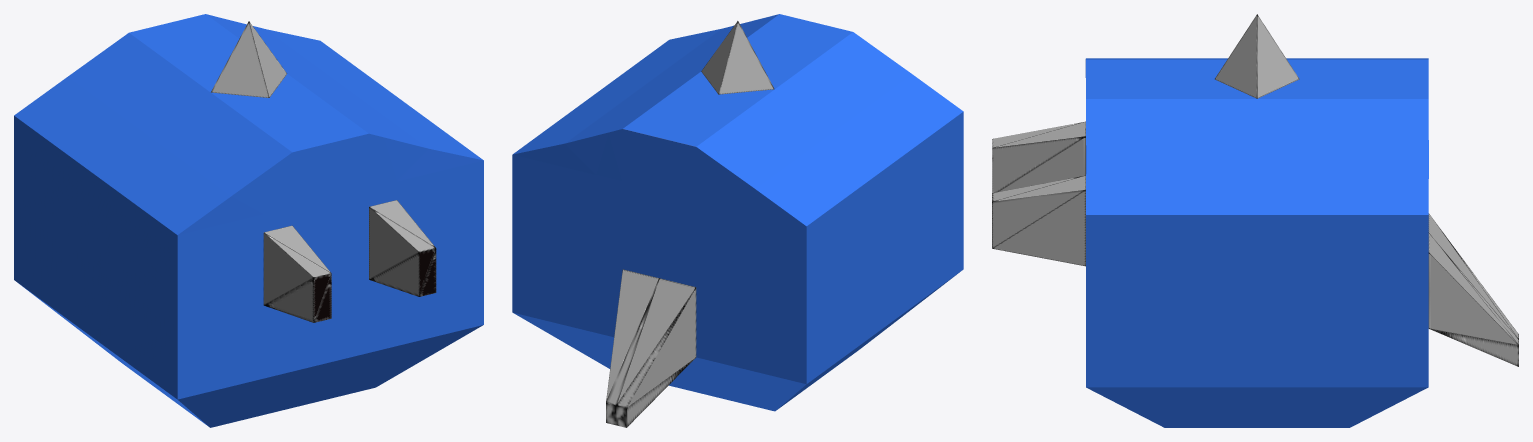
The model's file is BluePlayer.obj.
3 renders of one model, left to right at view 1: azimuth 30°, elevation 25°; view 2: azimuth 150°, elevation 25°; view 3: azimuth 270°, elevation 25°, orthographic. The views are drawn at different scales.
Visible parts, largest first — view 1: 体; view 2: 体; view 3: 体.
Part boxes in pixels (bbox=[...]): 体: bbox=[14, 14, 483, 427]; 体: bbox=[512, 14, 963, 427]; 体: bbox=[992, 14, 1518, 427].
Size of the model in its own units: 0.8151 by 0.9013 by 1.16.
1 material, 1 textured.
